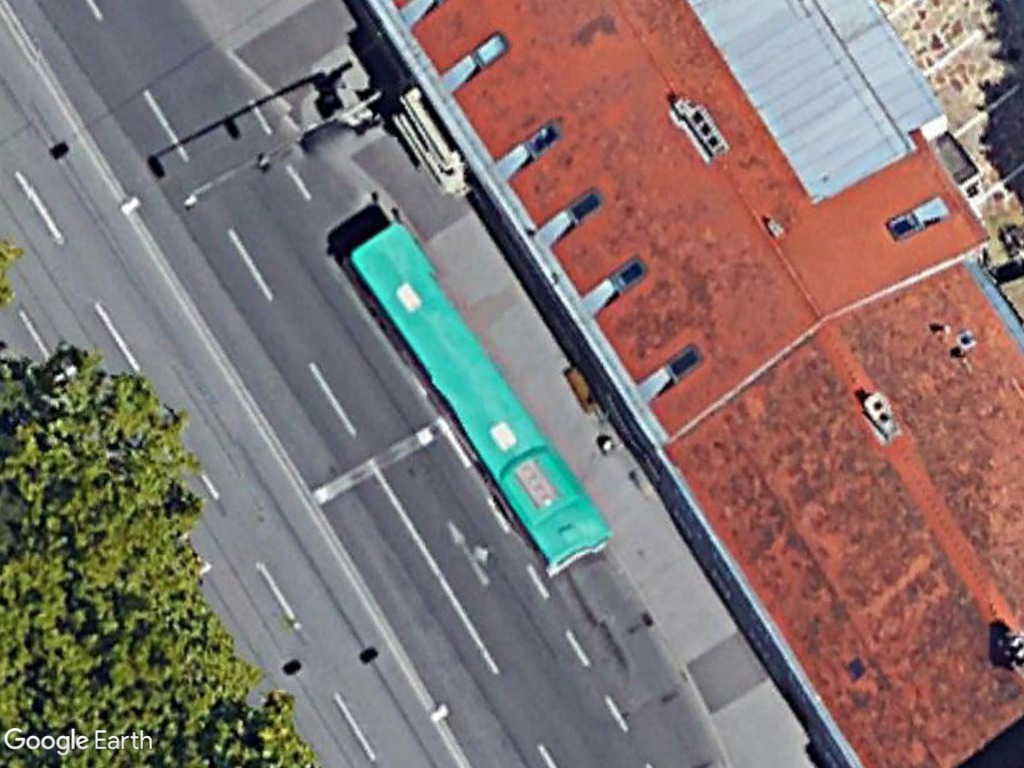bus: (349, 221, 617, 588)
